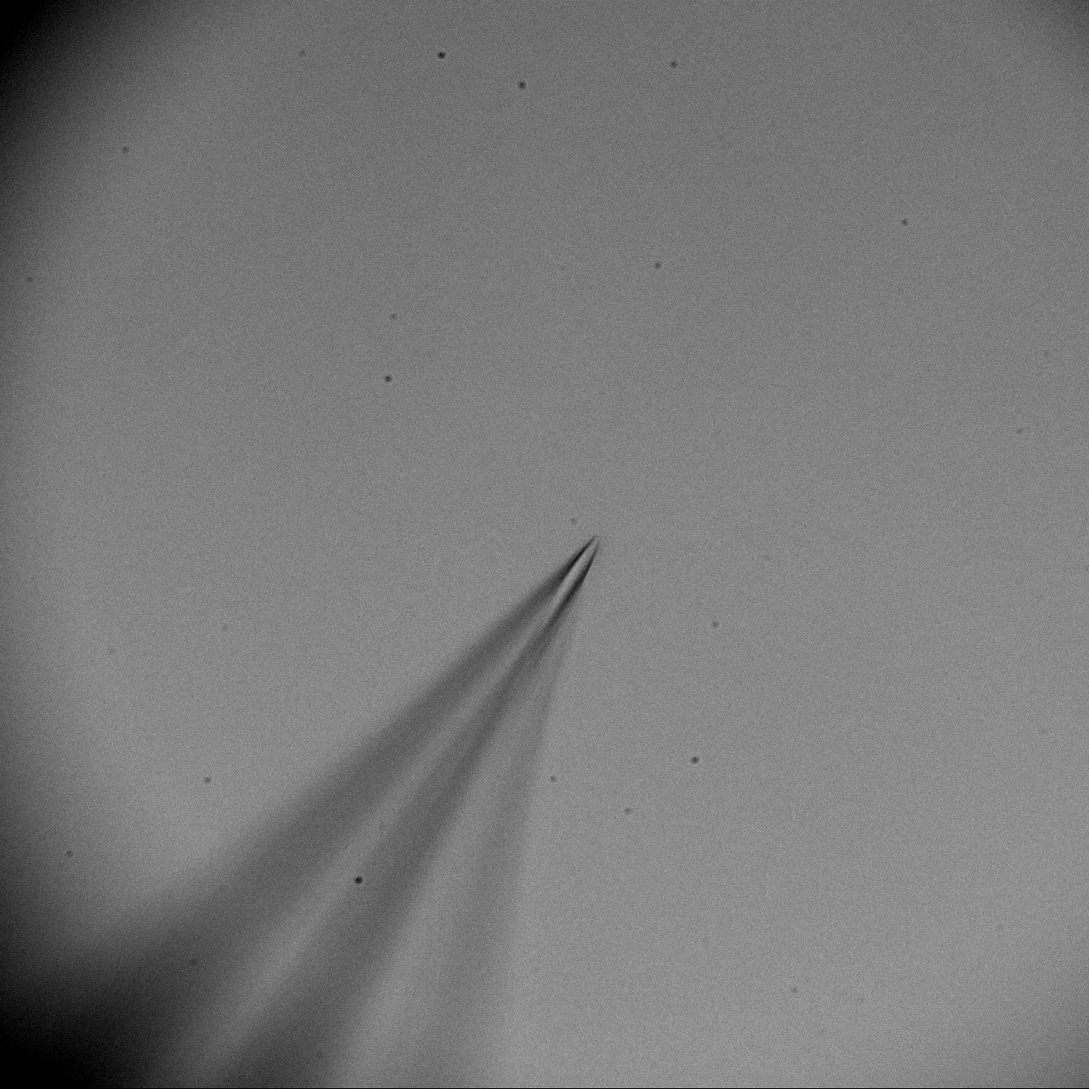tip: (500, 520, 609, 647)
